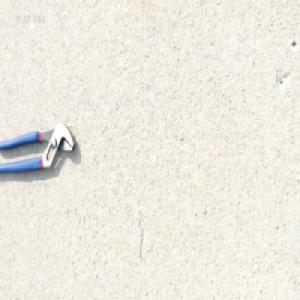Pliers: (0, 121, 75, 175)
